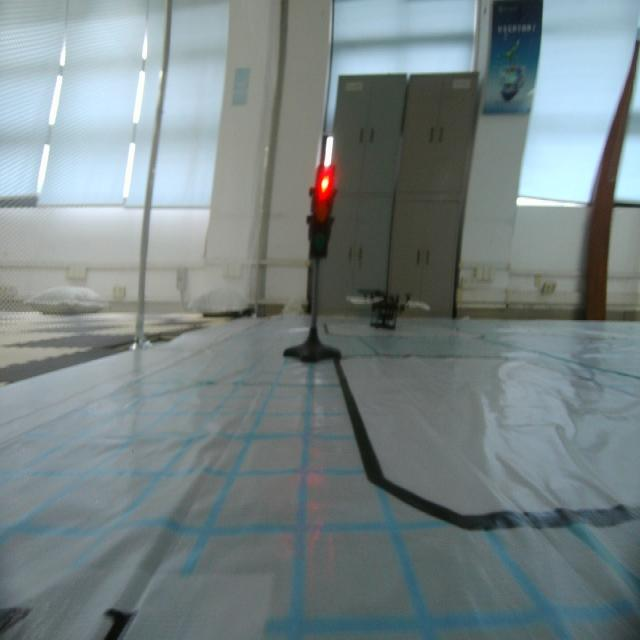red: (307, 160, 337, 266)
